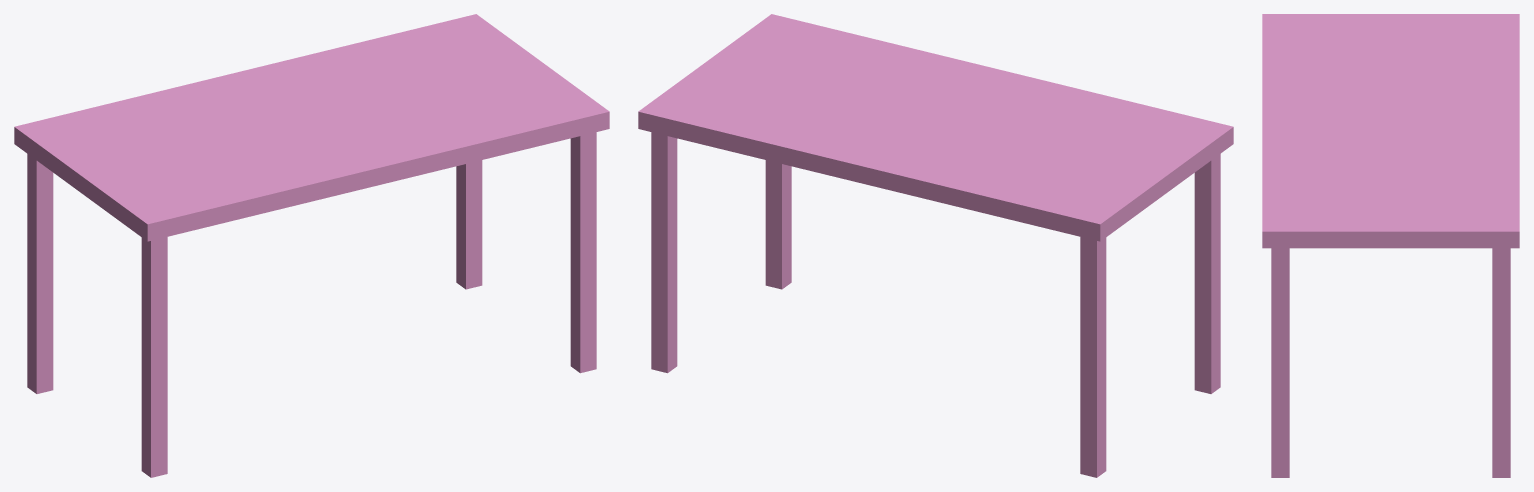
The model's file is table.gltf.
The picture shows the model from 3 angles, left to right: view 1: azimuth 30°, elevation 25°; view 2: azimuth 150°, elevation 25°; view 3: azimuth 270°, elevation 25°; orthographic projection. The views are drawn at different scales.
Parts seen in each view (by area): view 1: Object_14; view 2: Object_14; view 3: Object_14.
Part boxes in pixels (x1,y1,x2,y2): Object_14: [14, 14, 609, 477]; Object_14: [638, 14, 1233, 477]; Object_14: [1262, 14, 1519, 477].
Size of the model in its own units: 1.4 by 0.75 by 0.7.
